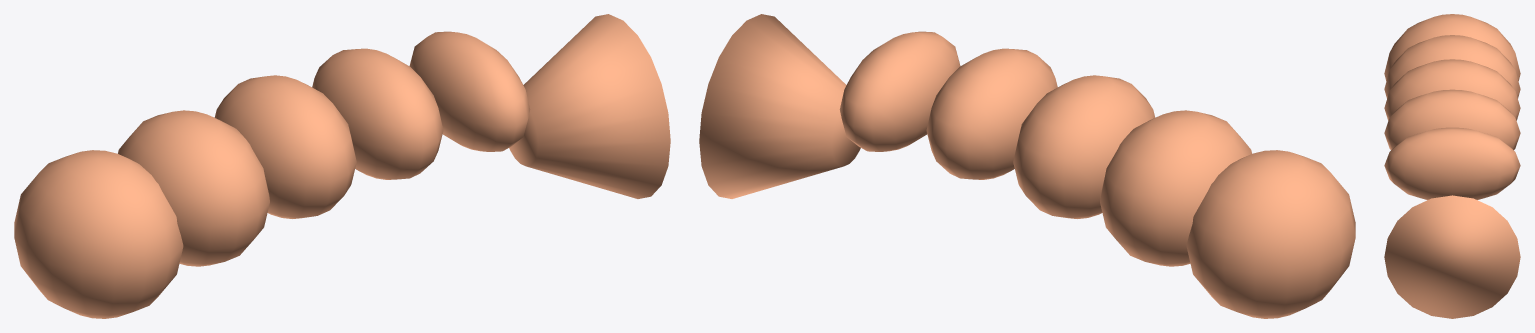
Rendered from shrimp.fbx.
The picture shows the model from 3 angles, left to right: view 1: azimuth 30°, elevation 25°; view 2: azimuth 150°, elevation 25°; view 3: azimuth 270°, elevation 25°; orthographic projection. The views are drawn at different scales.
Visible parts, largest first — view 1: shrimp; view 2: shrimp; view 3: shrimp.
Boxes of the visible parts, x1,y1,x2,y2 form: shrimp: (14, 14, 670, 318); shrimp: (699, 14, 1355, 318); shrimp: (1384, 14, 1520, 318).
Size of the model in its own units: 0.58 by 0.1808 by 0.16.
